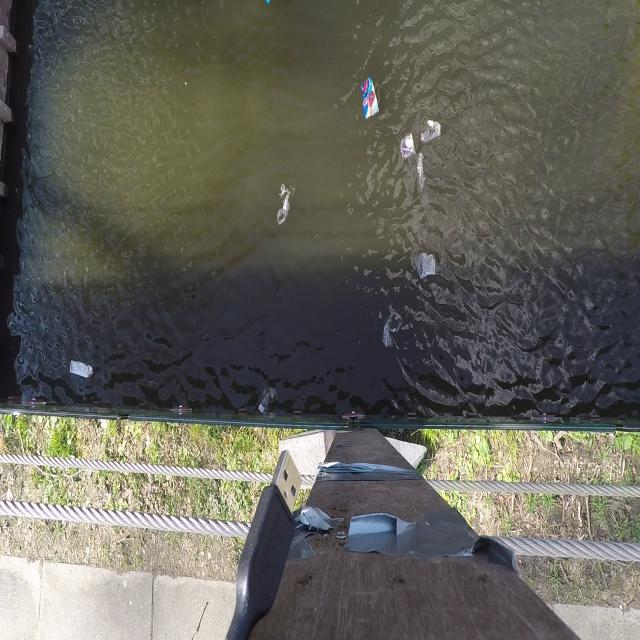Autre plastique: (356, 73, 385, 121)
Non plastique: (68, 358, 99, 385)
Sac plastique: (378, 309, 408, 352), (271, 177, 296, 227), (412, 247, 440, 287), (419, 114, 443, 145), (397, 129, 415, 160), (416, 154, 429, 195)
